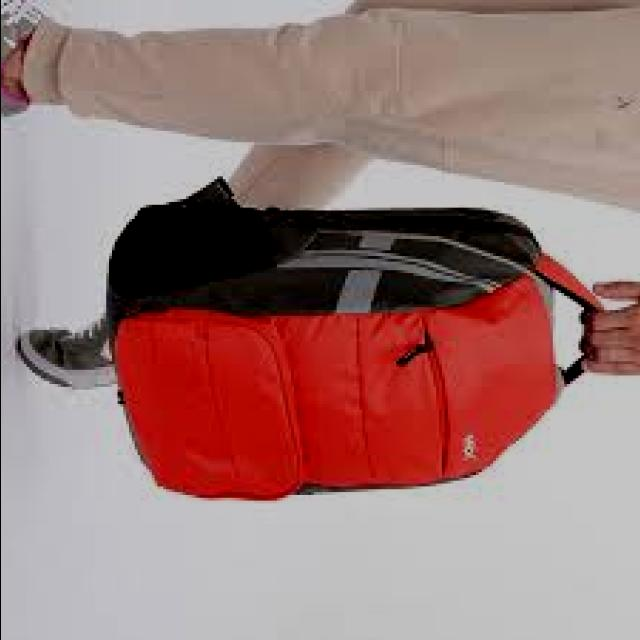backpack: (107, 178, 607, 502)
